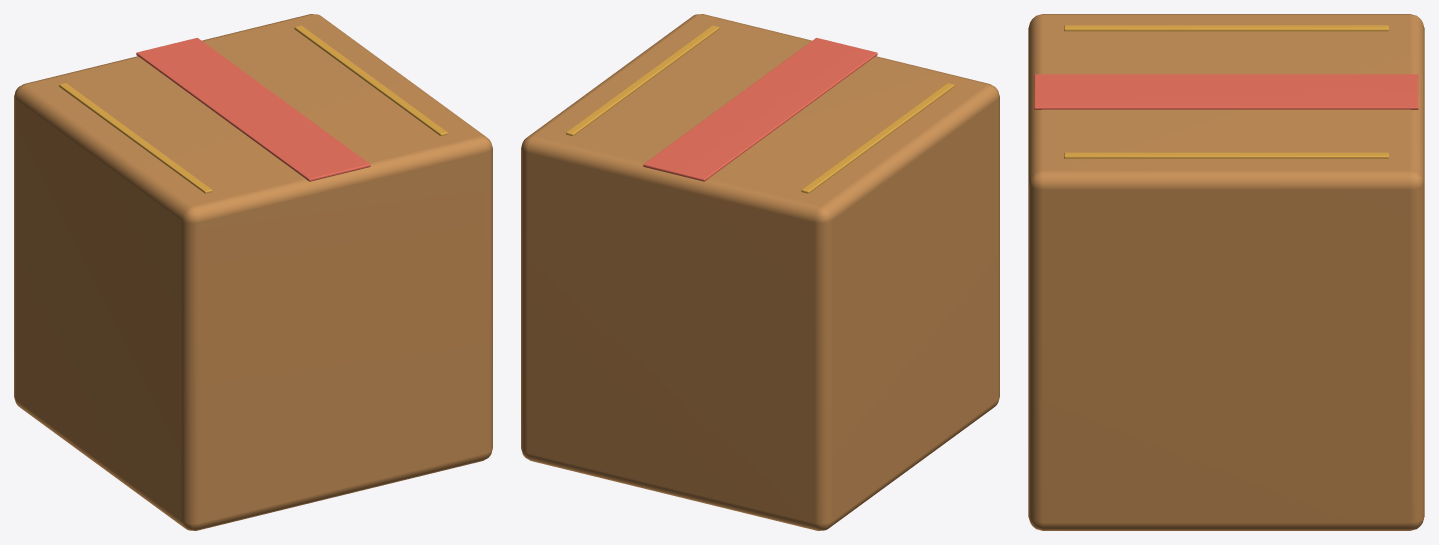
File: prop_seesaw.glb
The picture shows the model from 3 angles, left to right: view 1: azimuth 30°, elevation 25°; view 2: azimuth 150°, elevation 25°; view 3: azimuth 270°, elevation 25°; orthographic projection. The views are drawn at different scales.
Parts seen in each view (by area): view 1: Balance plank, Balance center grip, Balance grip mark, Balance grip mark.001; view 2: Balance plank, Balance center grip, Balance grip mark, Balance grip mark.001; view 3: Balance plank, Balance center grip, Balance grip mark, Balance grip mark.001.
Boxes of the visible parts, <box> form: Balance plank: <box>14,14,492,530</box>; Balance center grip: <box>136,38,370,181</box>; Balance grip mark: <box>59,83,212,193</box>; Balance grip mark.001: <box>294,25,447,135</box>; Balance plank: <box>521,14,999,530</box>; Balance center grip: <box>643,38,877,181</box>; Balance grip mark: <box>801,83,954,193</box>; Balance grip mark.001: <box>566,25,719,135</box>; Balance plank: <box>1028,14,1424,530</box>; Balance center grip: <box>1034,74,1418,109</box>; Balance grip mark: <box>1064,25,1388,31</box>; Balance grip mark.001: <box>1064,152,1388,158</box>.
Bounding box in the file's own units: 0.02 × 0.0201 × 0.02.
